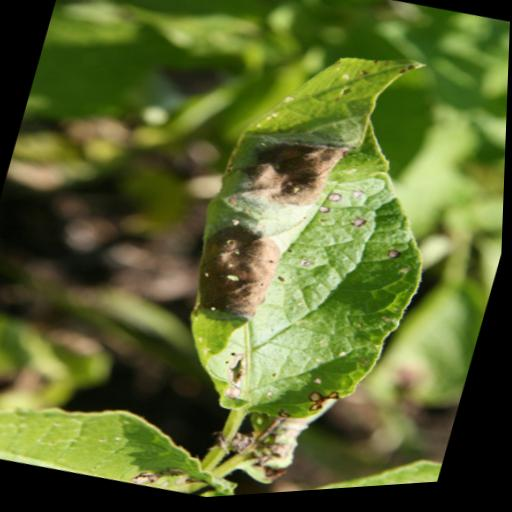Late Blight: (145, 13, 487, 461)
